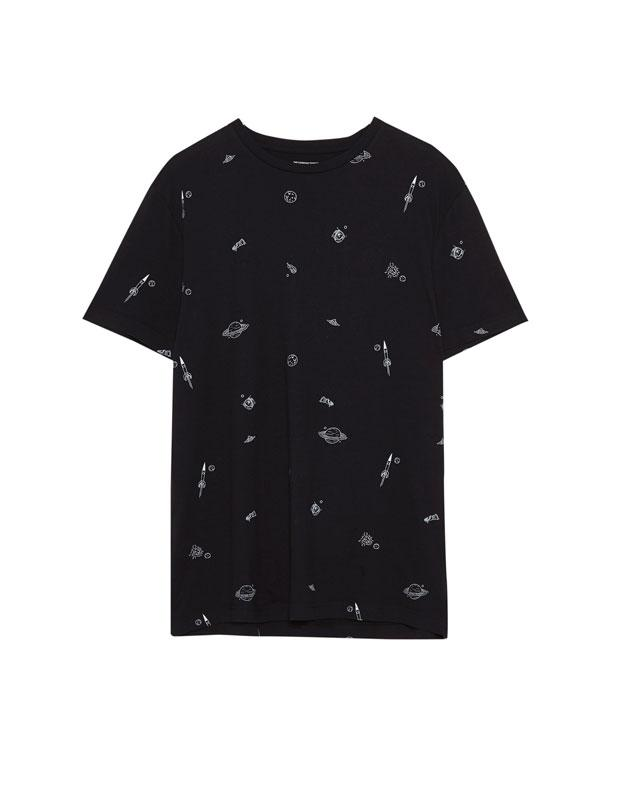teeshirt: (72, 108, 562, 679)
